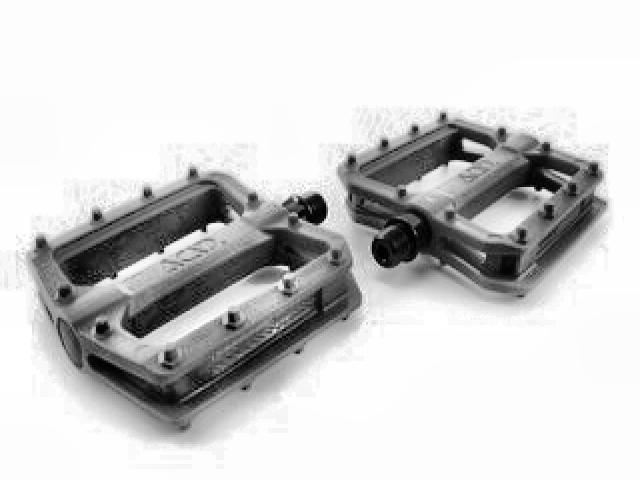pedal: (25, 161, 367, 435), (336, 107, 611, 311)
